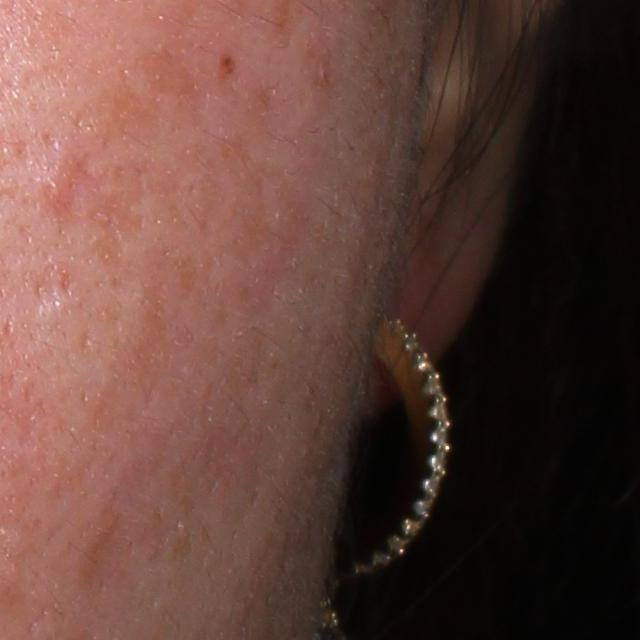papule: (43, 175, 74, 209)
